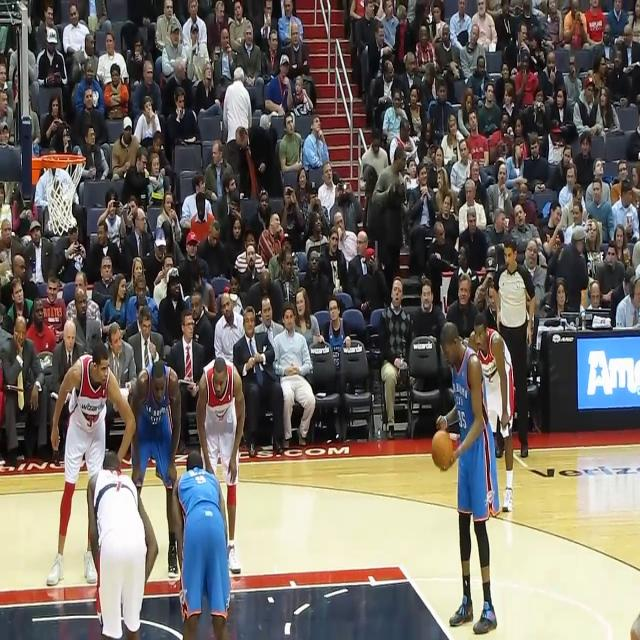ball: (432, 430, 454, 471)
